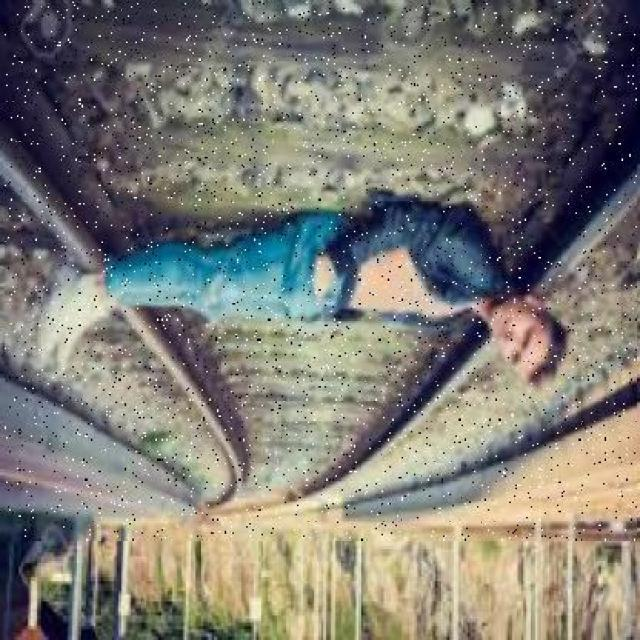danger: (26, 198, 565, 374)
rail: (5, 2, 636, 539)
